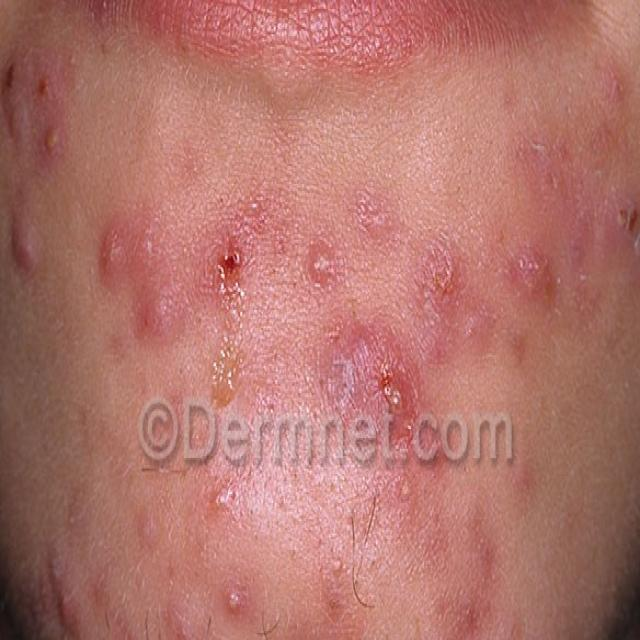Acne: (0, 32, 640, 640)
